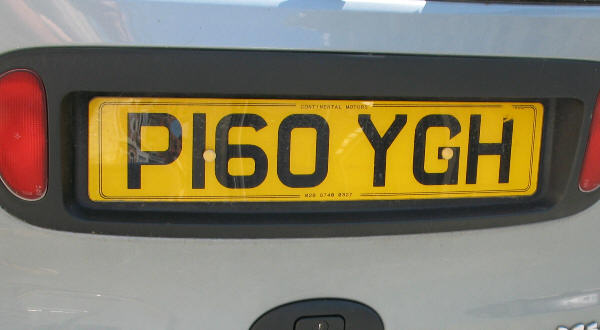license_plate: (87, 97, 545, 204)
